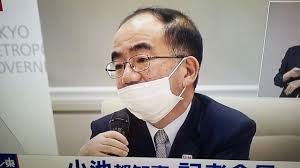mask_weared_incorrect: (110, 19, 200, 125)
